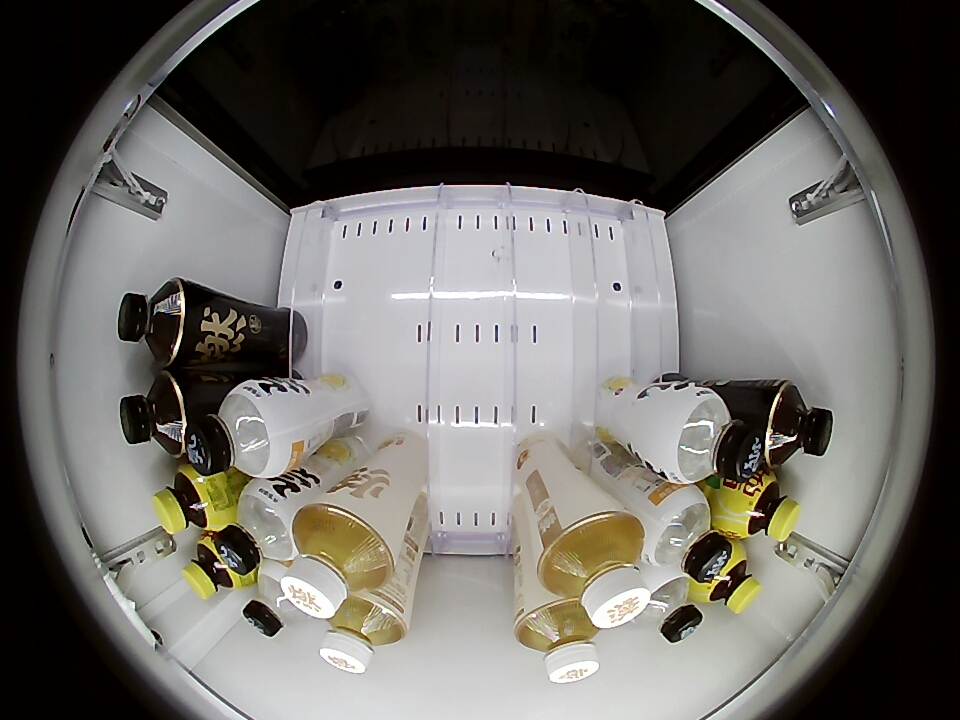rancha-1: (117, 278, 189, 367), (761, 382, 834, 468), (119, 370, 188, 456)
rancha-2: (533, 509, 650, 629), (281, 500, 397, 620), (515, 599, 601, 684), (321, 593, 407, 675)
weitaningmeng-bottle: (723, 471, 802, 543), (153, 464, 227, 534), (183, 533, 249, 600), (697, 547, 762, 614)
yuanqishui: (651, 385, 764, 484), (185, 380, 294, 479), (637, 484, 732, 582), (214, 479, 304, 574), (629, 569, 702, 643), (244, 561, 307, 636)
